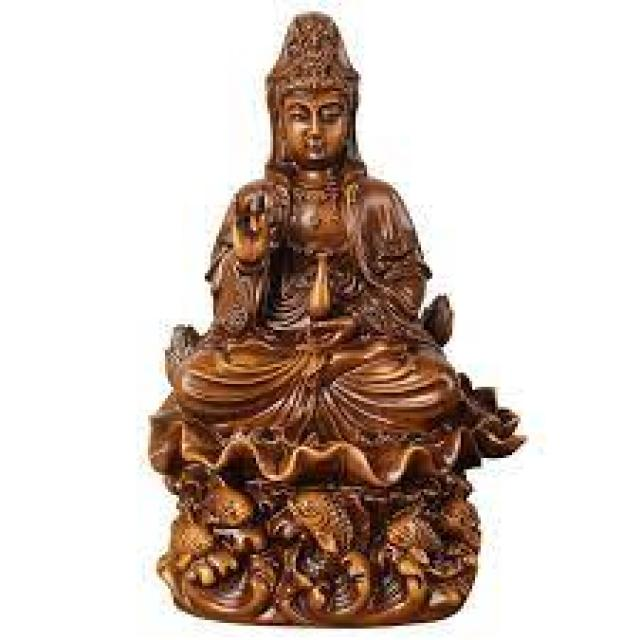Guan Yin: (203, 8, 458, 478)
